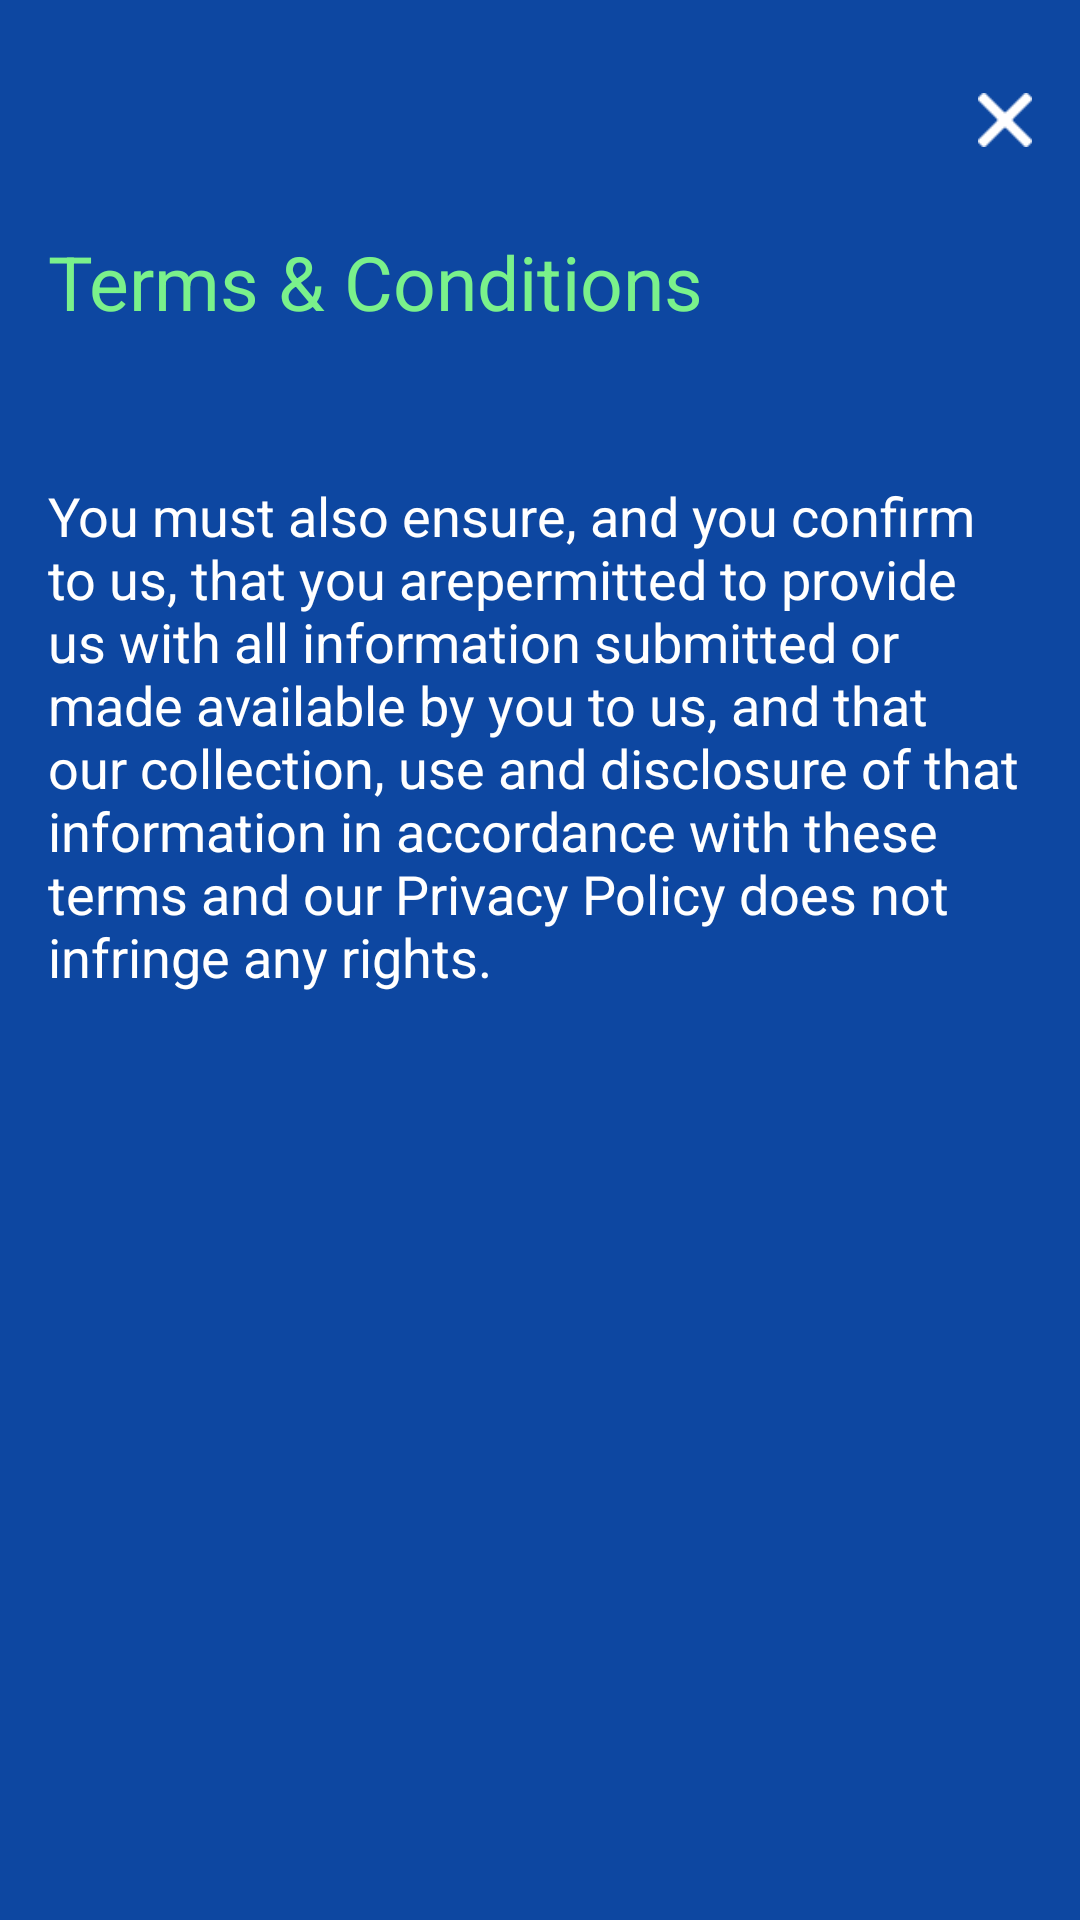

Point at icon controls on the screen. Image size 1080x1920, points as (x=x, y=y).
closing: (x=1005, y=120)
